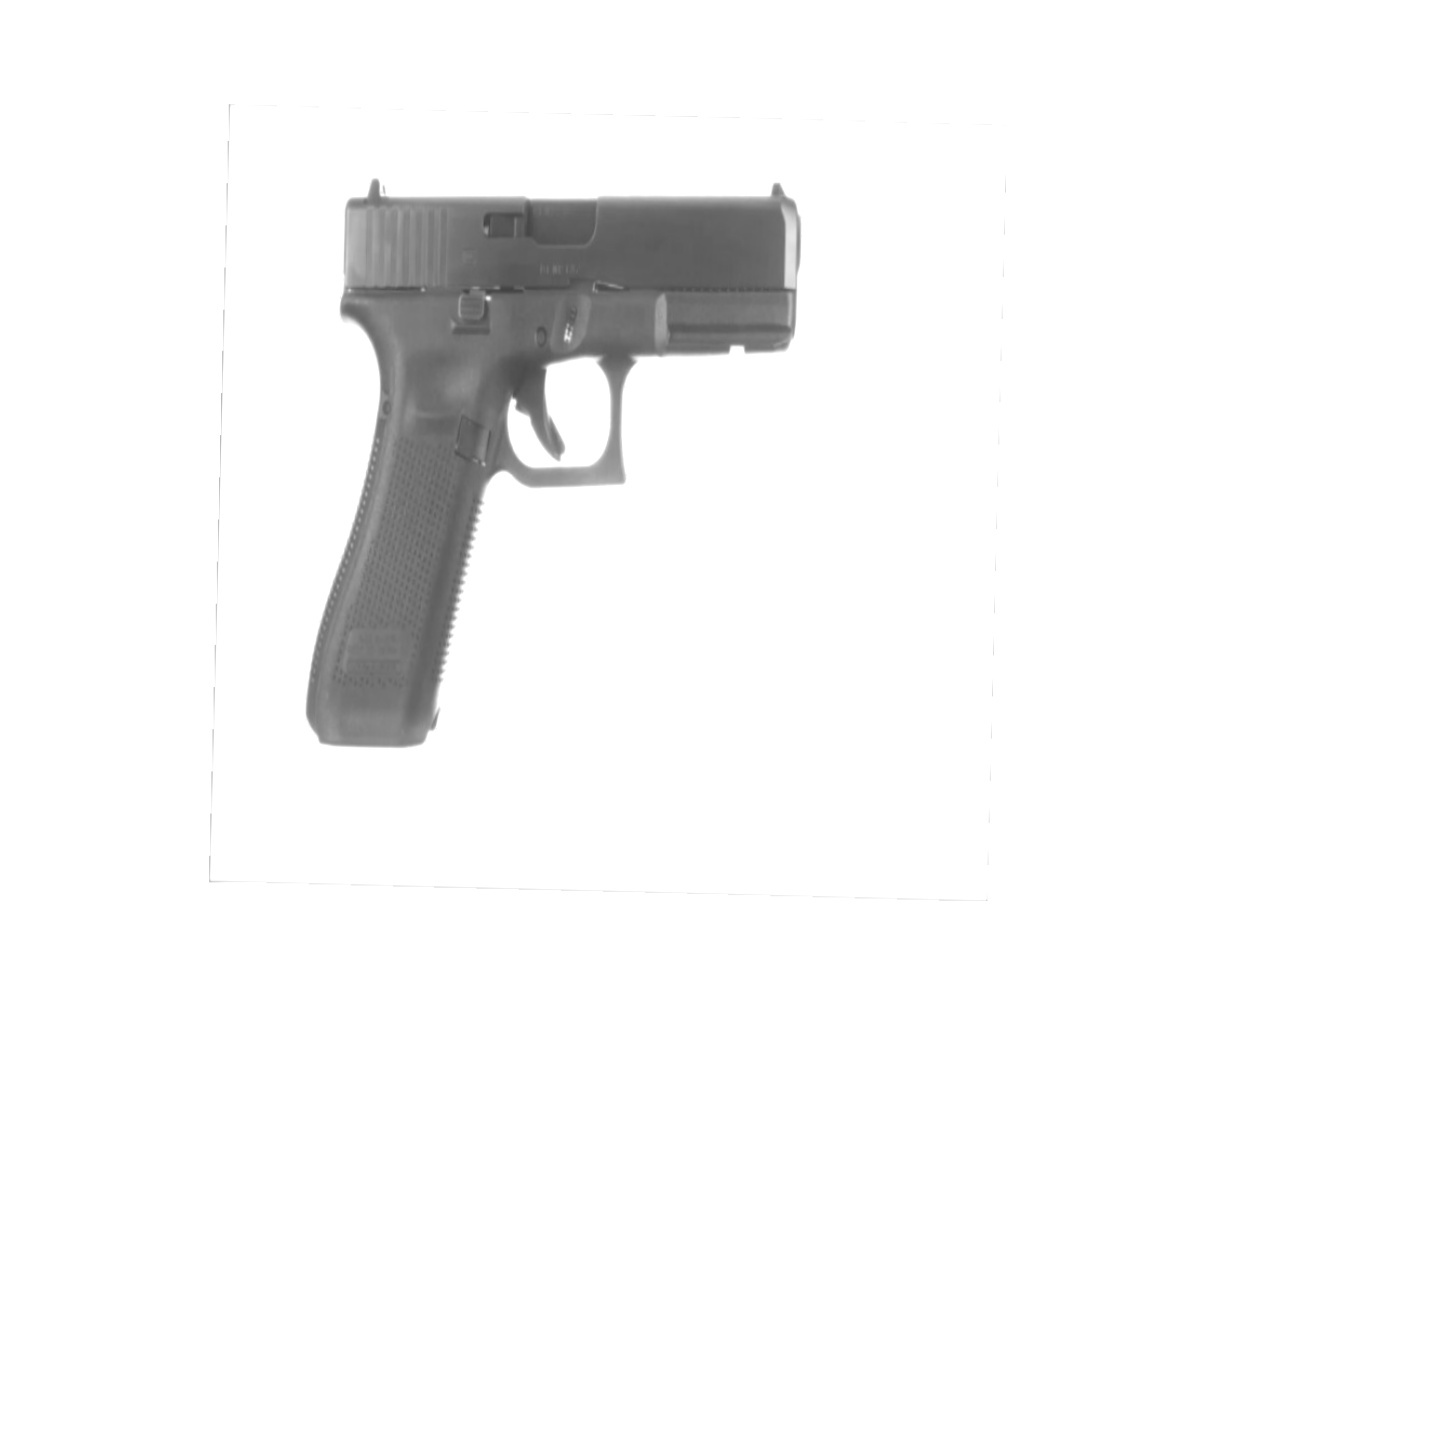gun: (306, 179, 801, 748)
